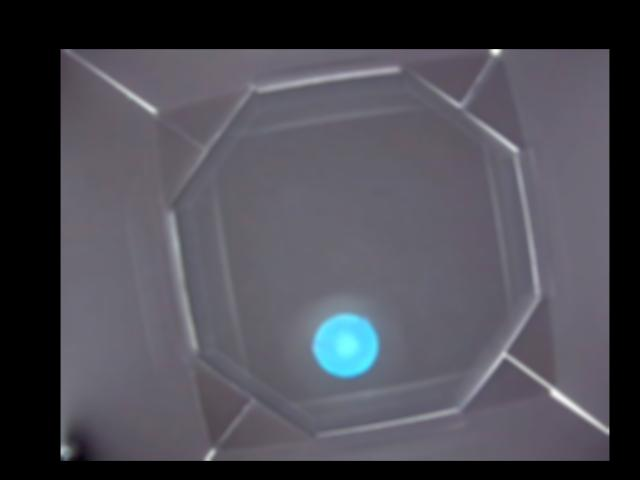Carrot: (312, 313, 379, 377)
